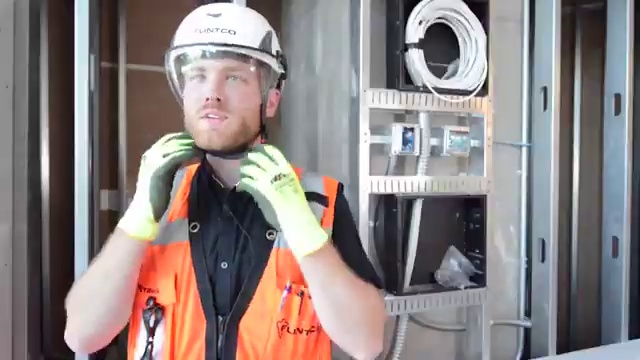helmet: (157, 1, 297, 98)
jacket: (113, 159, 349, 360)
